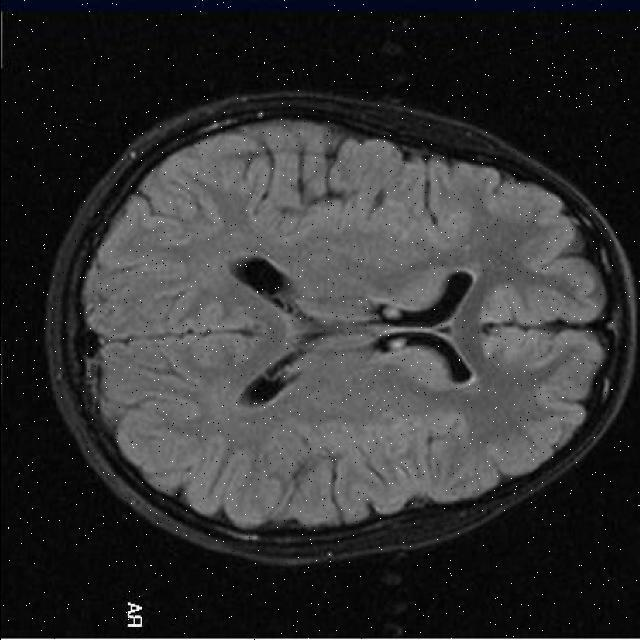No_Tumor: (46, 93, 636, 564)
